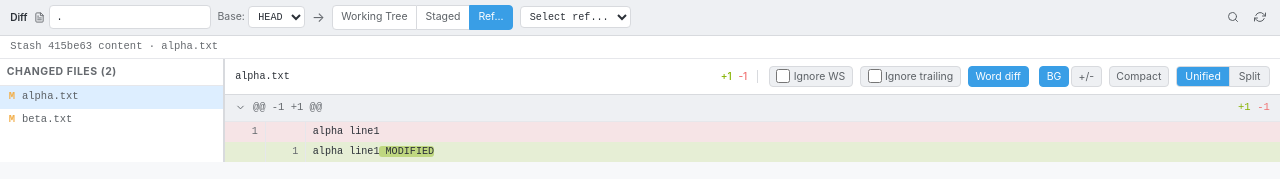
Test: DiffPage stash viewer — tracked-only stash › clicking another file in the list loads its stashed diff
Click the text "beta.txt": (47, 119) [22,113,72,125]
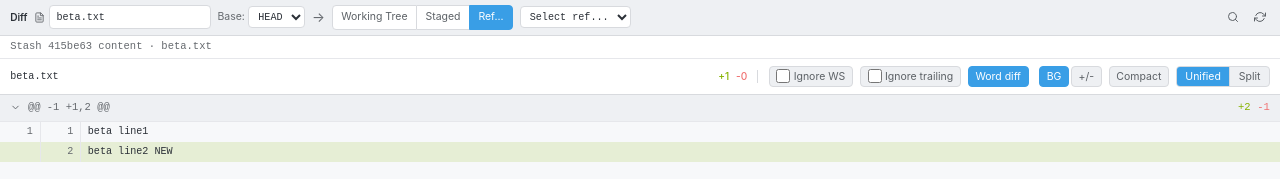
Now the text "beta line2 NEW" is shown, box [88,146,173,157]
